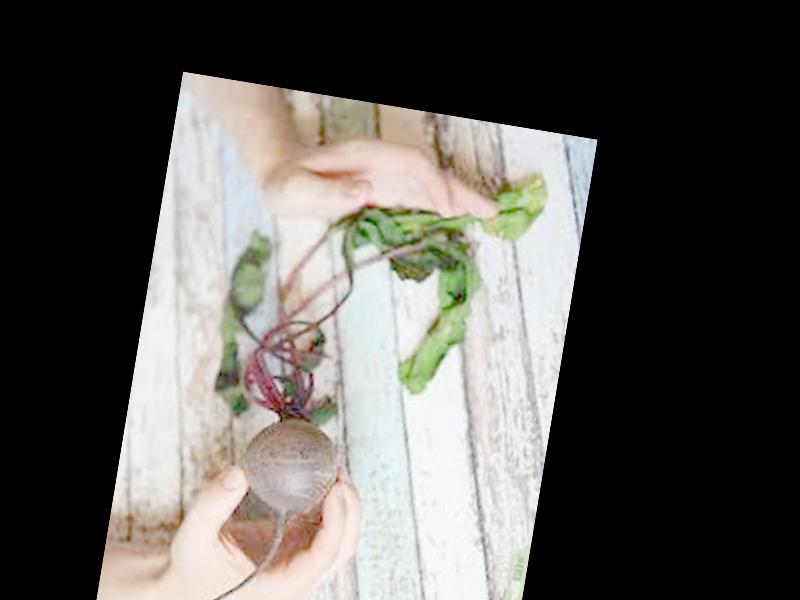Beet: (178, 129, 549, 600)
